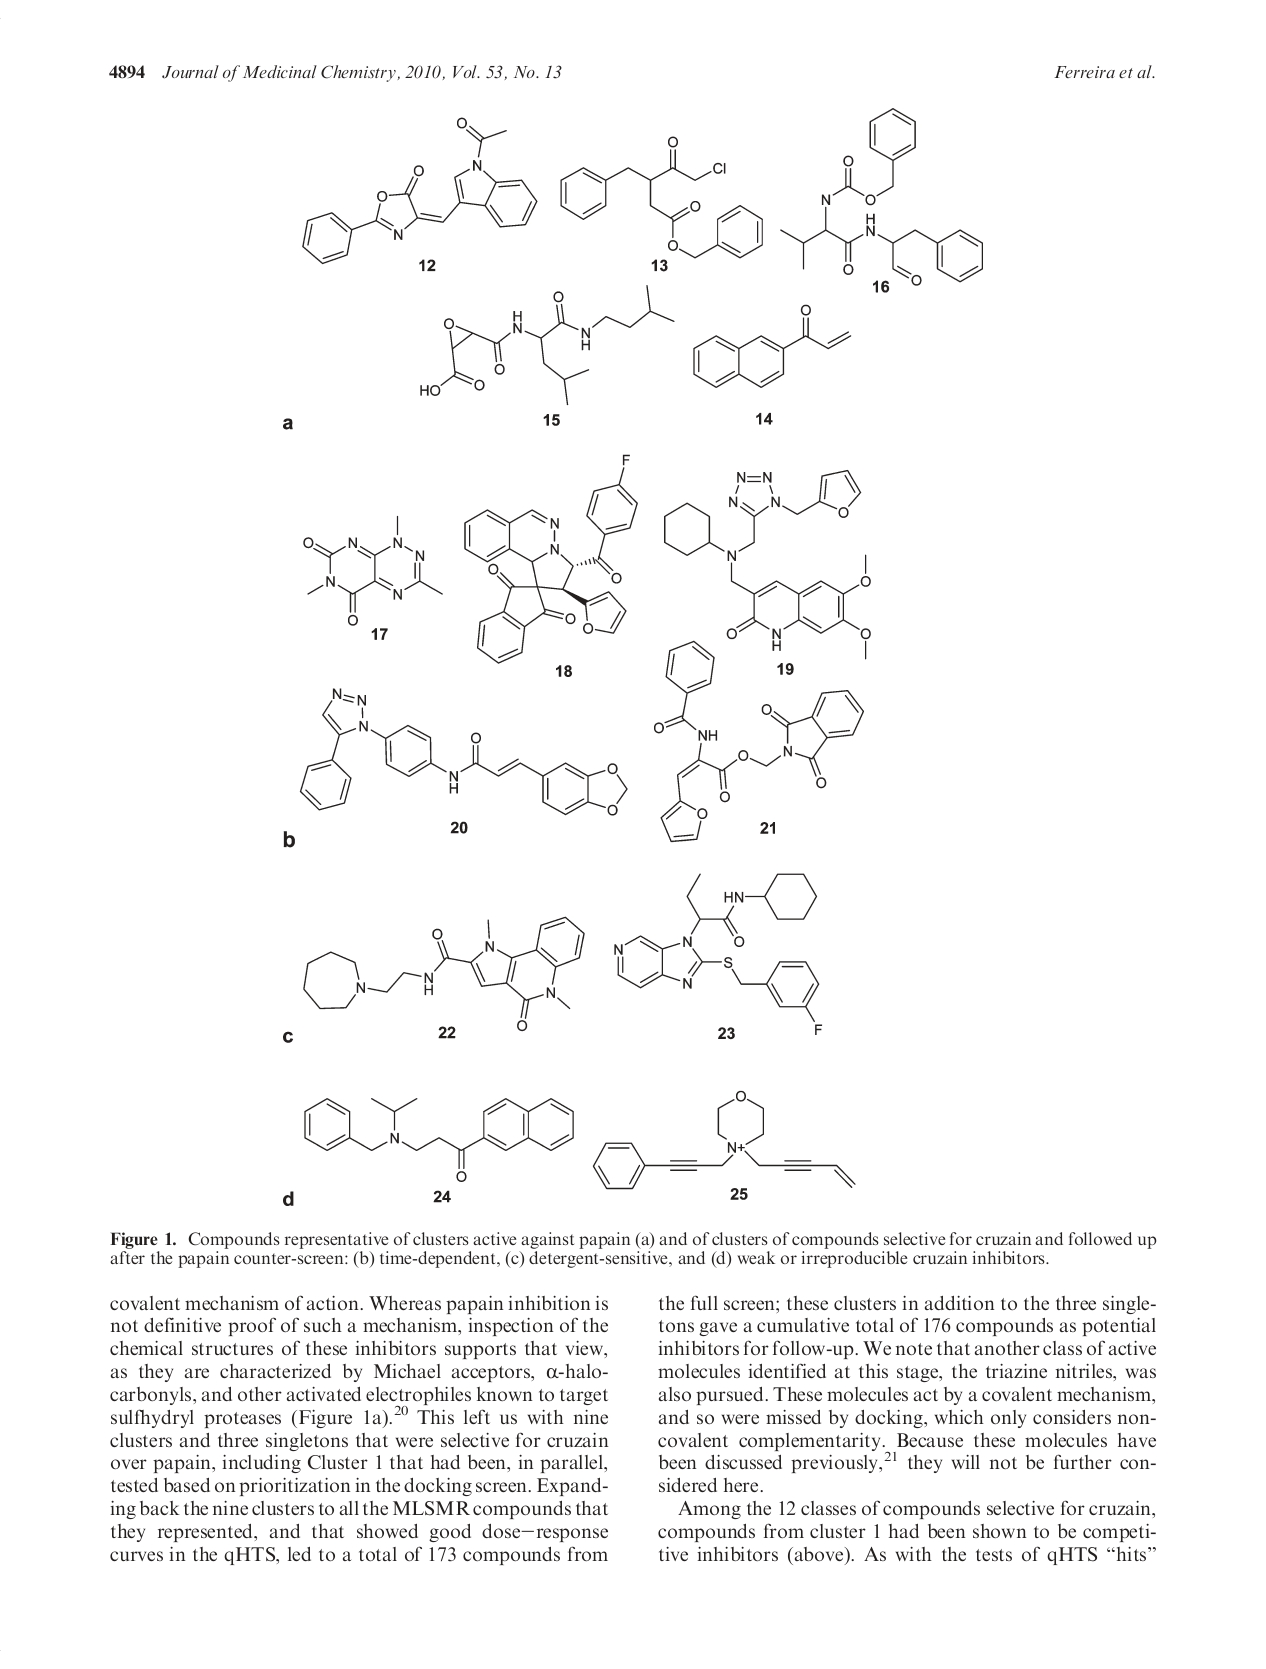exist_molecular: (648, 638, 864, 844), (297, 686, 629, 817), (660, 468, 876, 662), (461, 451, 642, 668), (777, 105, 985, 289), (298, 114, 541, 267), (612, 868, 824, 1039), (301, 915, 588, 1033), (416, 281, 677, 407), (592, 1088, 860, 1192), (555, 136, 766, 259), (301, 1094, 576, 1184), (301, 512, 445, 626), (692, 301, 856, 390)
